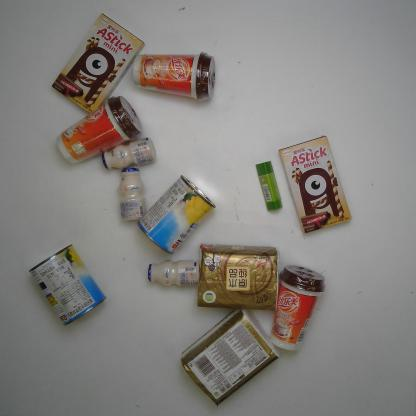Canned Food: (135, 170, 220, 257), (27, 242, 108, 328)
Dessert: (49, 10, 147, 118), (278, 135, 353, 235)
Instant Drink: (53, 93, 146, 167), (268, 263, 327, 354), (130, 48, 218, 105)
Milk: (98, 135, 159, 173), (115, 164, 150, 224), (143, 257, 203, 290)
Stationery: (255, 160, 284, 212)
Tissue: (178, 306, 280, 407), (196, 242, 281, 313)
